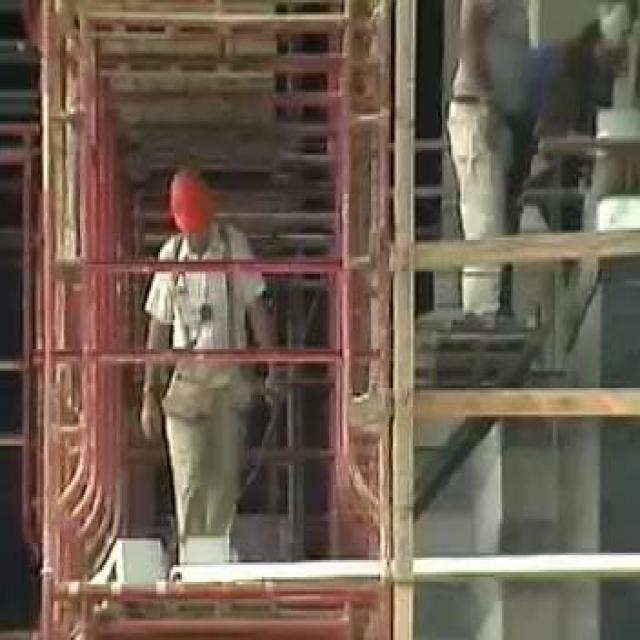Safety-Helmet: (160, 160, 227, 247)
